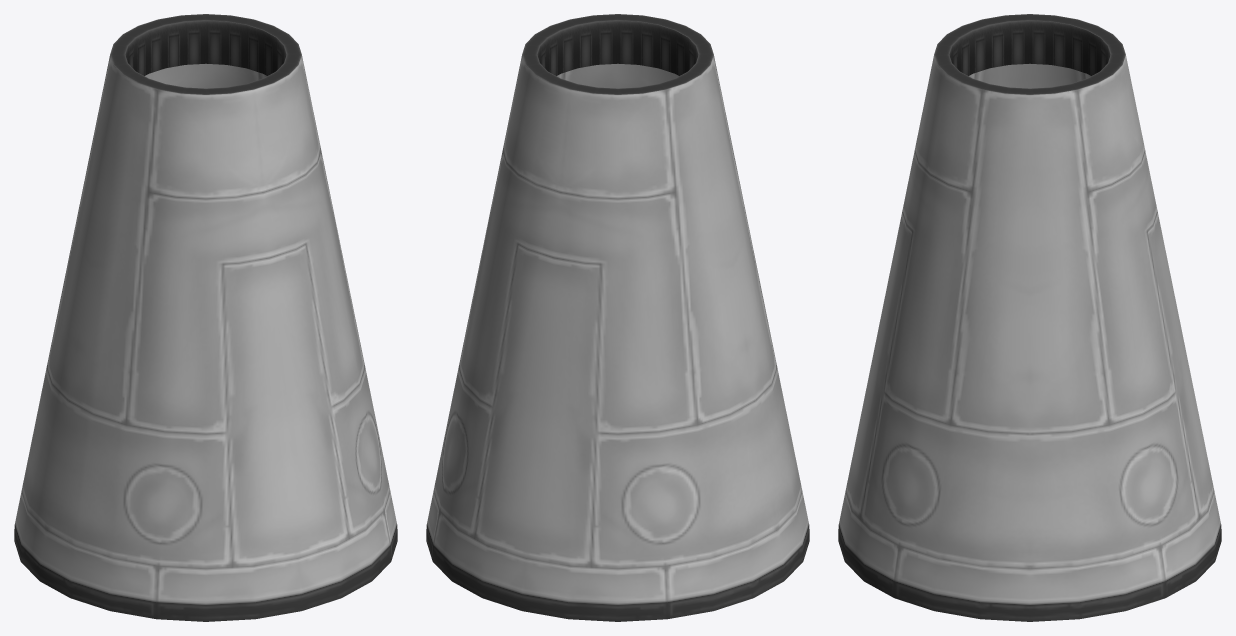
File: thor125m625mAdapter.dae
3 renders of one model, left to right at view 1: azimuth 30°, elevation 25°; view 2: azimuth 150°, elevation 25°; view 3: azimuth 270°, elevation 25°, orthographic.
Visible parts, largest first — view 1: polySurface12, polySurface13; view 2: polySurface12, polySurface13; view 3: polySurface12, polySurface13.
Part boxes in pixels (box(x1,y1,x2,y2)): polySurface12: box(14, 55, 397, 621); polySurface13: box(110, 14, 301, 94); polySurface12: box(426, 55, 809, 621); polySurface13: box(522, 14, 713, 94); polySurface12: box(838, 55, 1221, 621); polySurface13: box(934, 14, 1125, 94).
Bounding box in the file's own units: 1.25 × 1.75 × 1.25.
